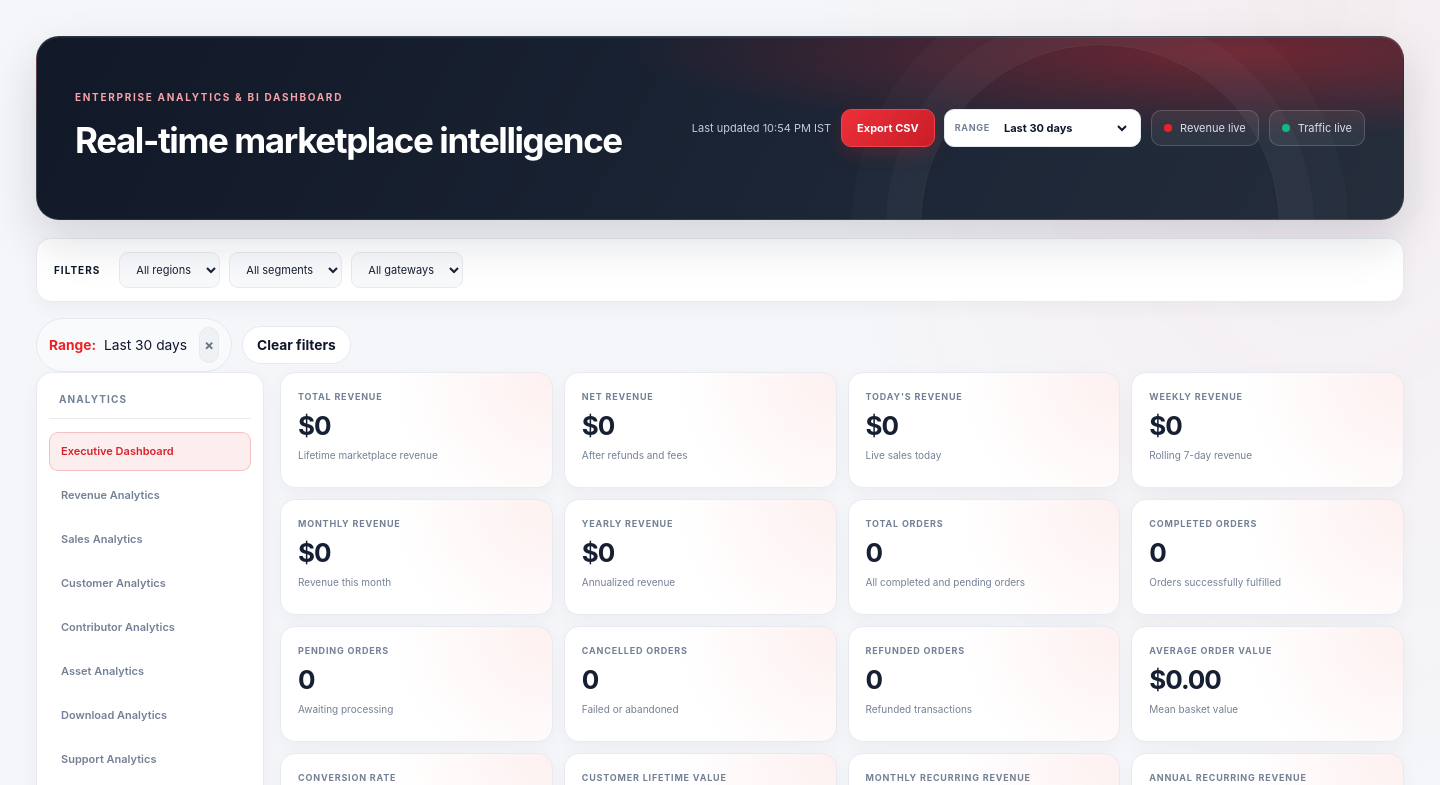
AdminAnalyticsPage › renders executive KPI cards and revenue analytics metric groups when the sidebar is clicked
The image size is (1440, 785).
Check: the text "Total Revenue" is shown, box [298,391,382,402]
Click the button "Revenue Analytics": (150, 496) [49,476,251,515]
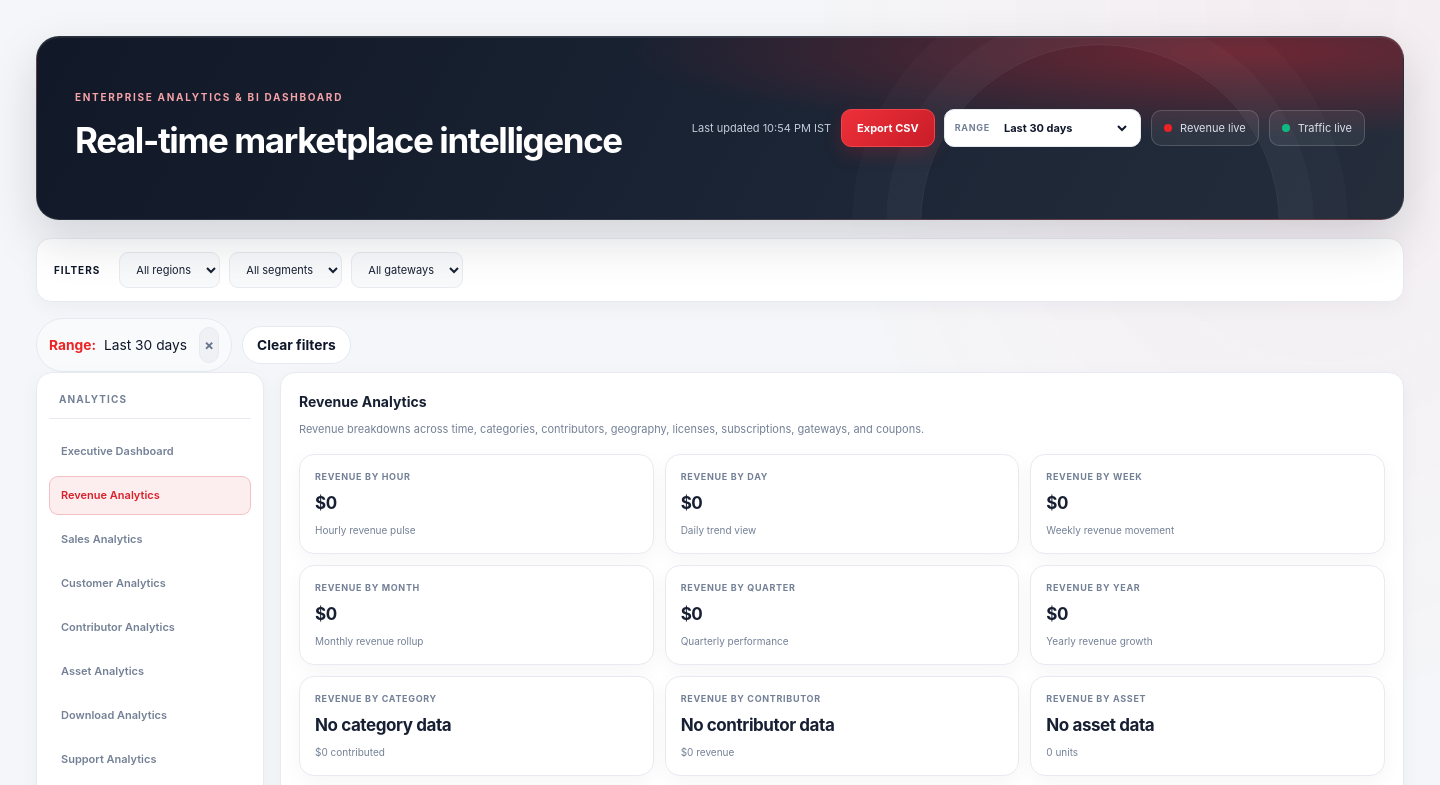
Check: the text "Revenue by Hour" is shown, box [315,471,411,482]
Check: the text "Revenue by Category" is shown, box [315,693,437,704]
Click the button "Executive Dashboard": (150, 452) [49,432,251,471]
(page scrolled)
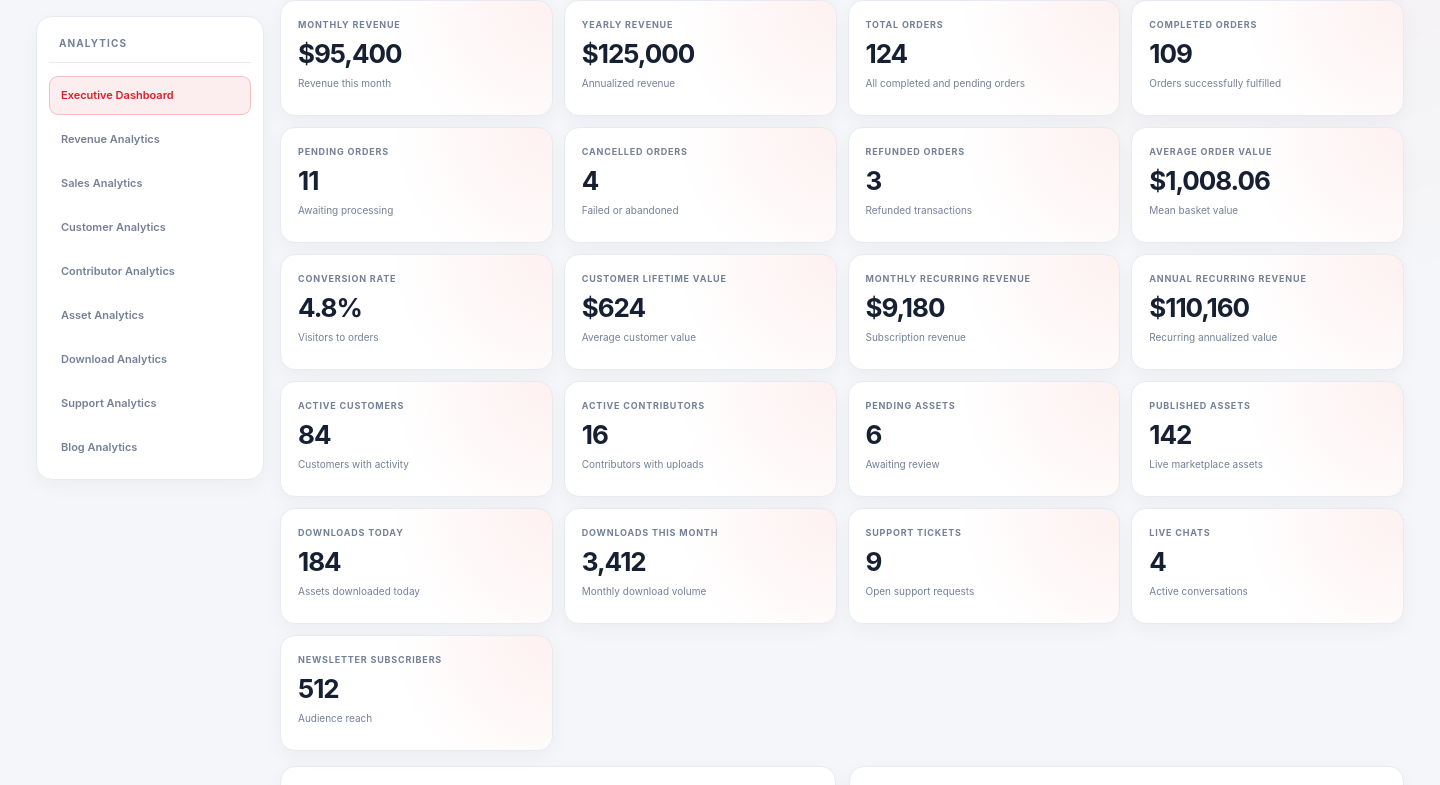
Check: the text "Active Customers" is shown, box [298,400,404,411]
